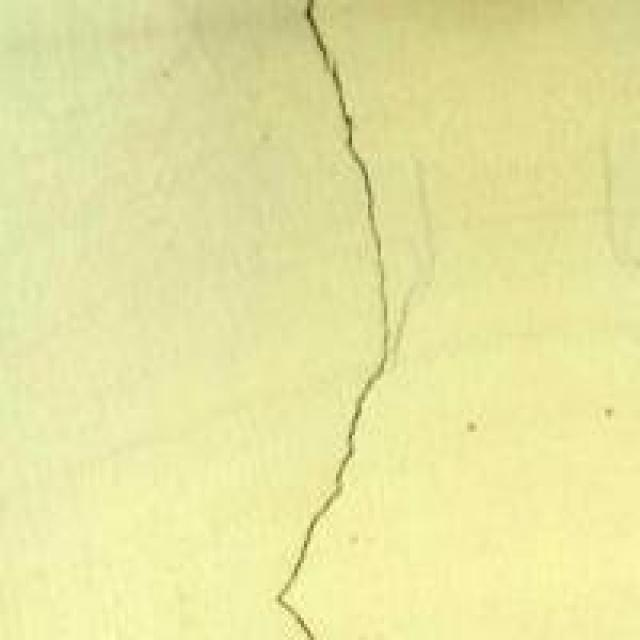crack: (256, 3, 403, 637)
